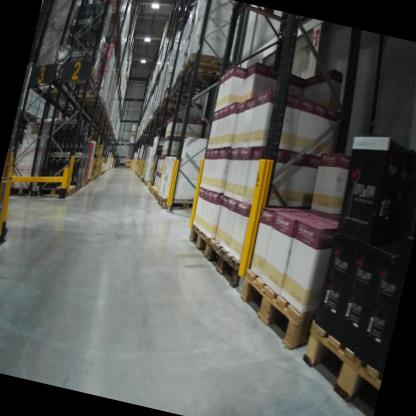pallet: (286, 313, 391, 416), (226, 263, 324, 365), (202, 236, 260, 297), (227, 1, 309, 37), (181, 45, 234, 84), (173, 62, 229, 98), (52, 57, 101, 95), (157, 185, 208, 221), (181, 219, 220, 264), (37, 176, 77, 208), (4, 180, 39, 203), (76, 88, 103, 107), (105, 5, 124, 22), (0, 204, 5, 228), (72, 183, 81, 195), (20, 108, 29, 117), (78, 181, 85, 190), (27, 111, 34, 119), (32, 114, 37, 120)
